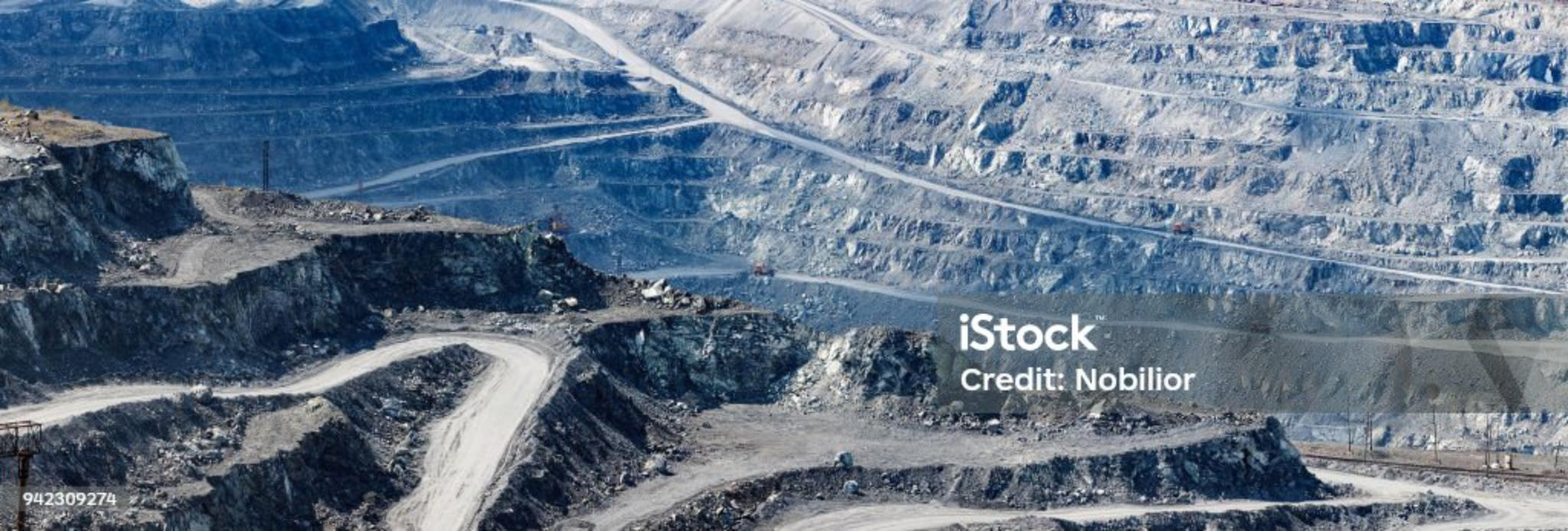benches: (495, 0, 1174, 236), (585, 406, 1222, 526), (214, 332, 551, 529), (306, 118, 727, 196), (1190, 236, 1566, 295), (0, 386, 193, 424)
wall: (0, 230, 625, 381), (643, 421, 1349, 528), (479, 312, 819, 529)
